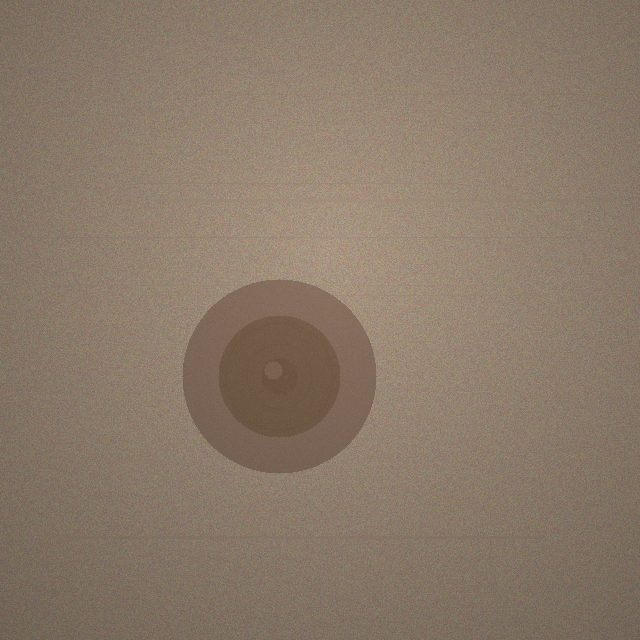good: (182, 279, 376, 473)
